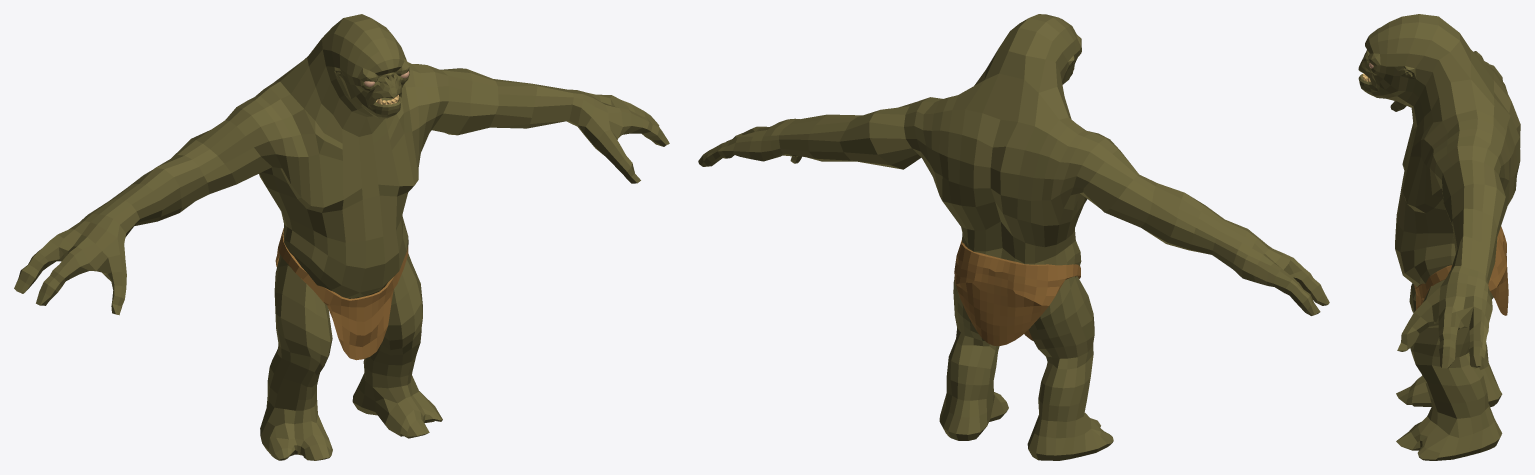
Rendered from troll.fbx.
3 views of the same model, side by side, from view 1: azimuth 30°, elevation 25°; view 2: azimuth 150°, elevation 25°; view 3: azimuth 270°, elevation 25° (orthographic). The views are drawn at different scales.
Parts seen in each view (by area): view 1: CaveTroll; view 2: CaveTroll; view 3: CaveTroll.
Boxes of the visible parts, <box> form: CaveTroll: <box>14,14,669,460</box>; CaveTroll: <box>698,14,1329,460</box>; CaveTroll: <box>1358,14,1520,460</box>.
Size of the model in its own units: 949 by 594 by 215.
